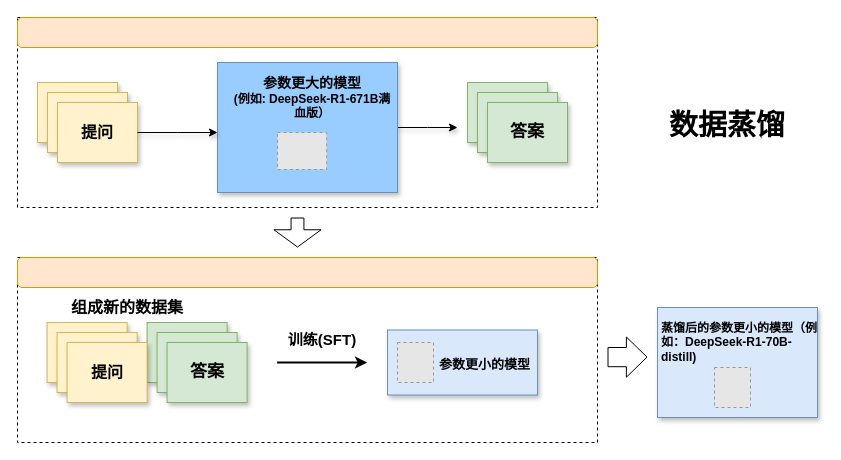
This 841x460 diagram has some shape labels left out. Grey dashed boxes stand in for pictures. The shapes that lost their labels are listed below. From the top down, each one's centre as x and y in pixels, then its label:
At (307,32): "利用大模型的知识生成数据".
At (307,272): "用新的数据集合训练参数更小的模型".
